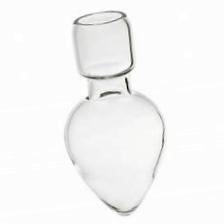Pear shaped flask: (57, 8, 174, 216)
